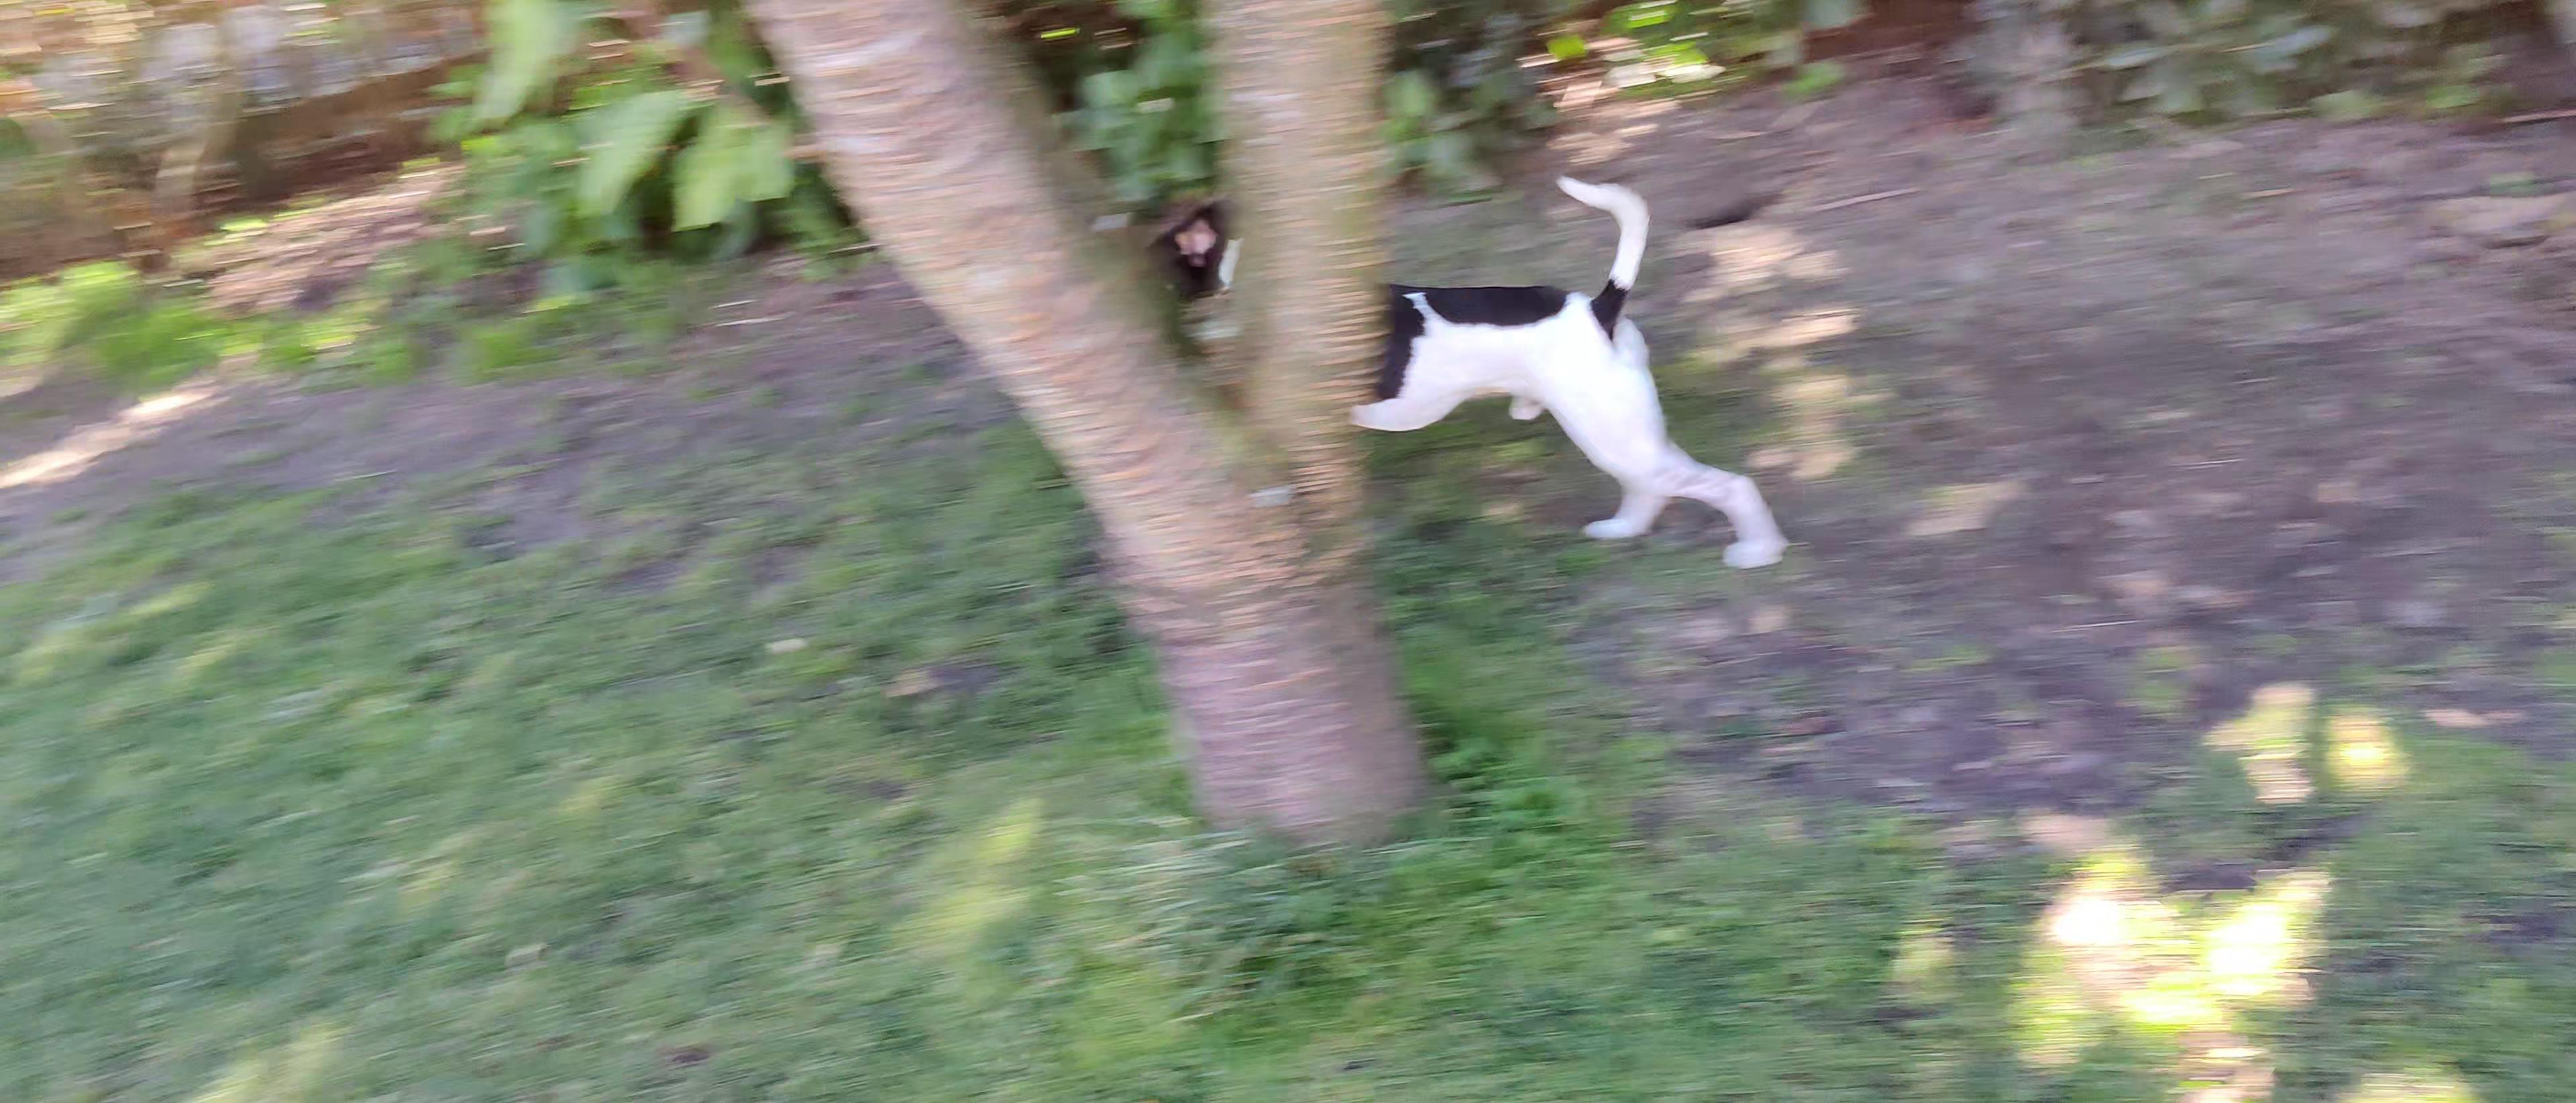Dog: (1129, 168, 1794, 570)
